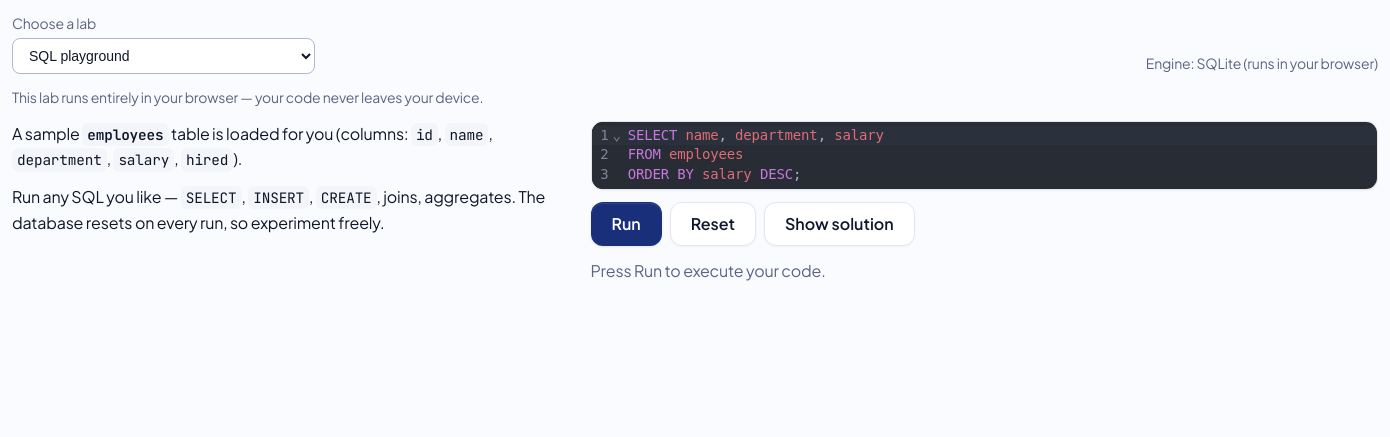
it: PracticeLab › lists the built-in labs, renders the editor, and shows a passing verdict after Run
expect the field is shown: met, box [622,122,1377,189]
Select "Challenge: high earners" in the dropdown. click: point(164, 56)
box: [12,38,315,74]
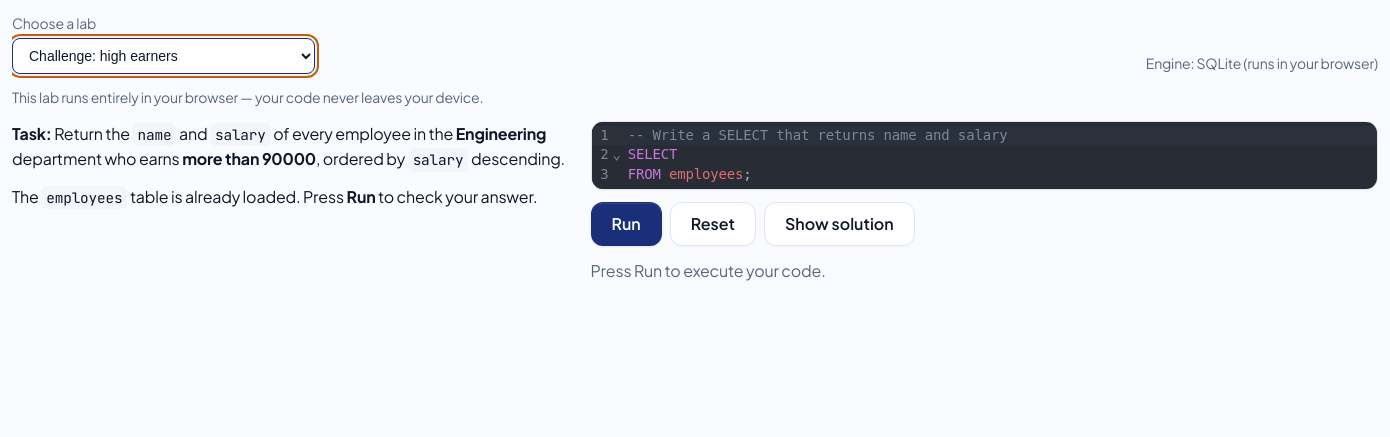
Click the button "Run". click: point(626, 224)
box: [590,202,662,246]
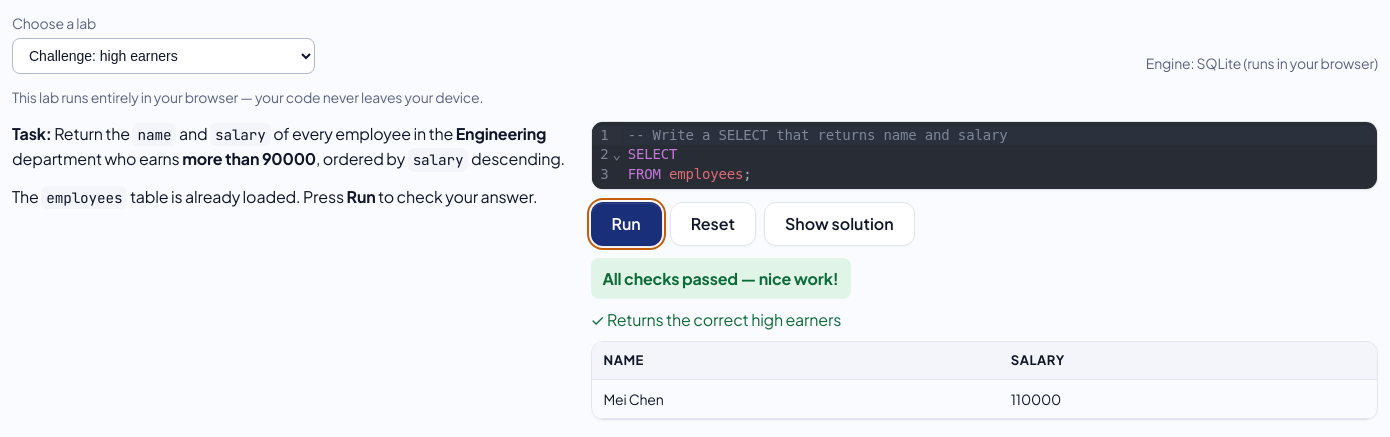
expect the message shows "passed": met, box [602,268,838,289]
expect the text "Mei Chen" is shown: met, box [592,379,999,418]
